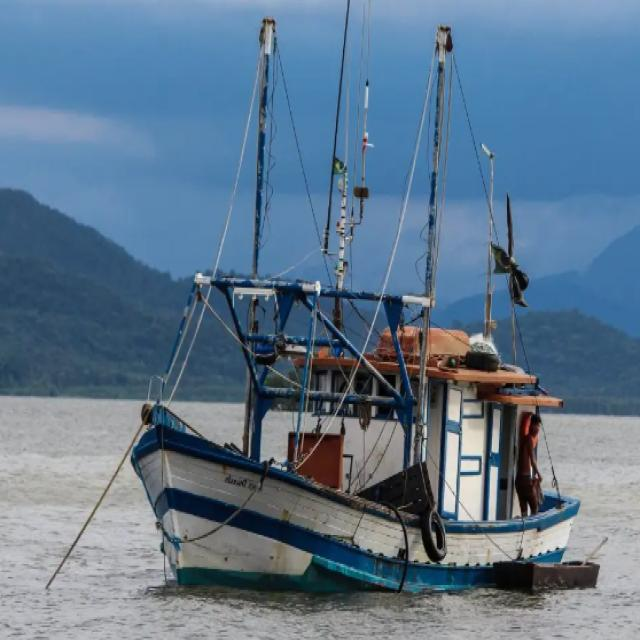fishing boat: (128, 16, 574, 589)
